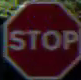Stop: (4, 4, 76, 75)
